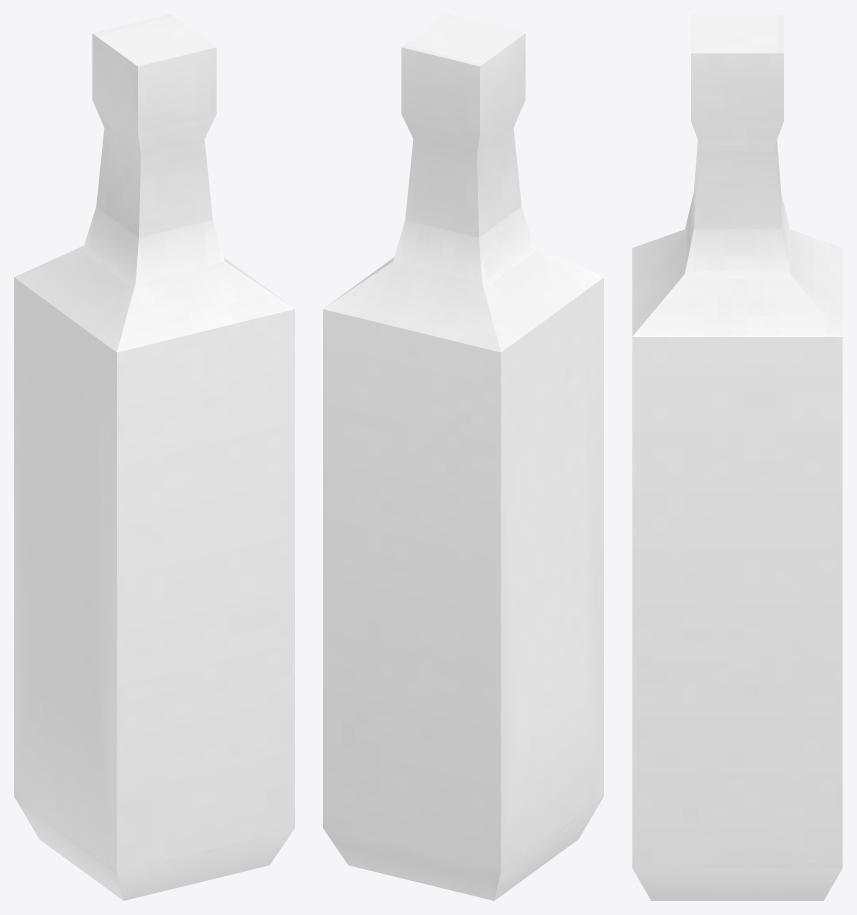
Rendered from BottleOil.glb.
3 views of the same model, side by side, from view 1: azimuth 30°, elevation 25°; view 2: azimuth 150°, elevation 25°; view 3: azimuth 270°, elevation 25° (orthographic). The views are drawn at different scales.
Visible parts, largest first — view 1: BottleOil; view 2: BottleOil; view 3: BottleOil.
Boxes of the visible parts, left/top/right/bottom form: BottleOil: left=14, top=14, right=294, bottom=900; BottleOil: left=323, top=14, right=603, bottom=900; BottleOil: left=632, top=14, right=842, bottom=900.
Bounding box in the file's own units: 0.0749 × 0.3262 × 0.0749.
Materials: 1 (1 with a texture image).
